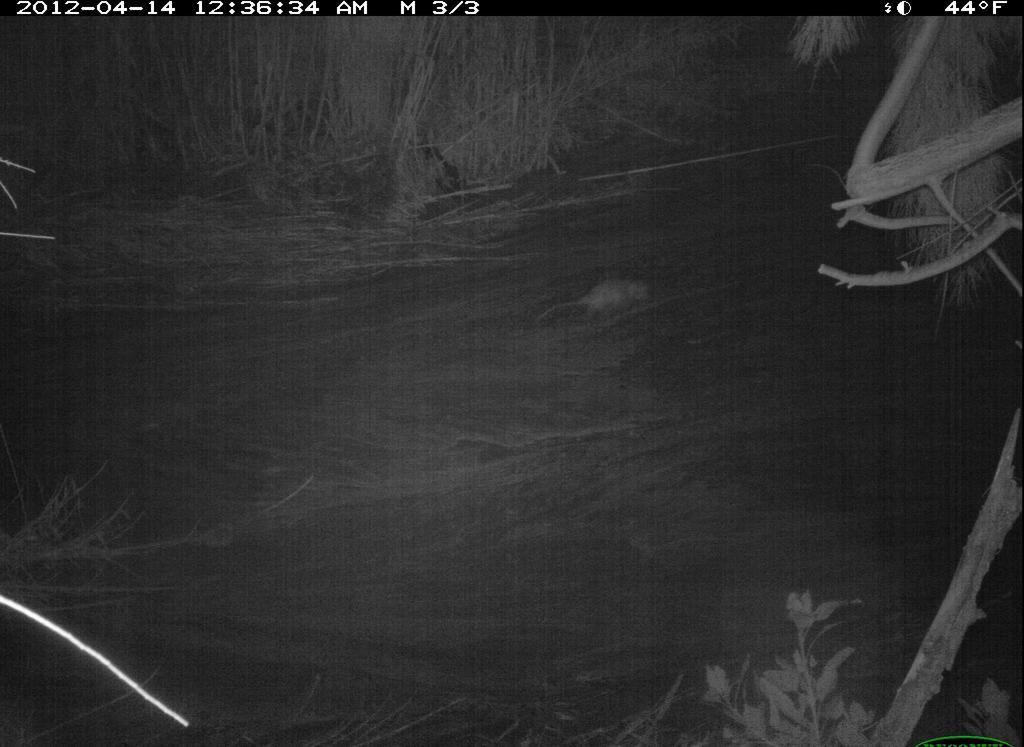opossum: (528, 253, 676, 347)
